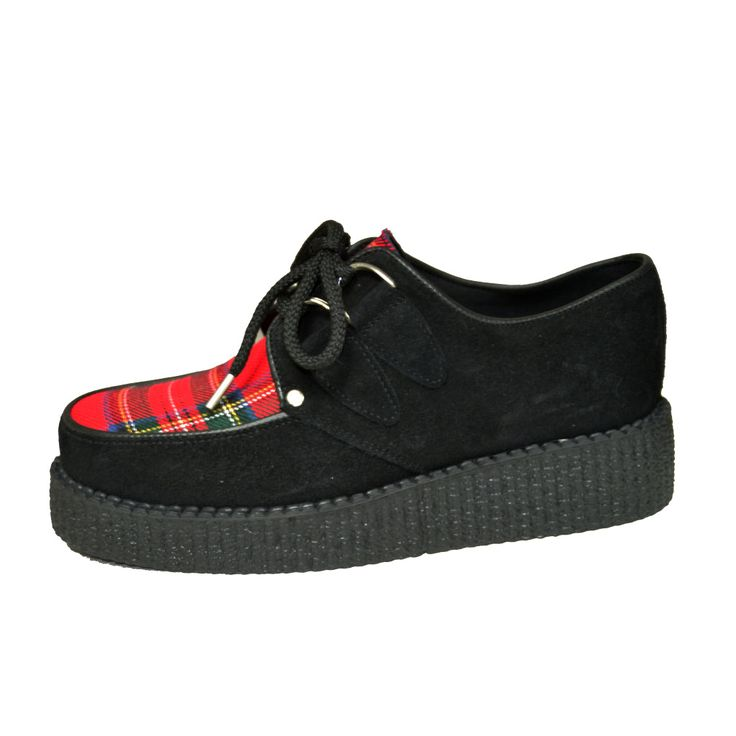gamuza: (54, 233, 668, 510)
